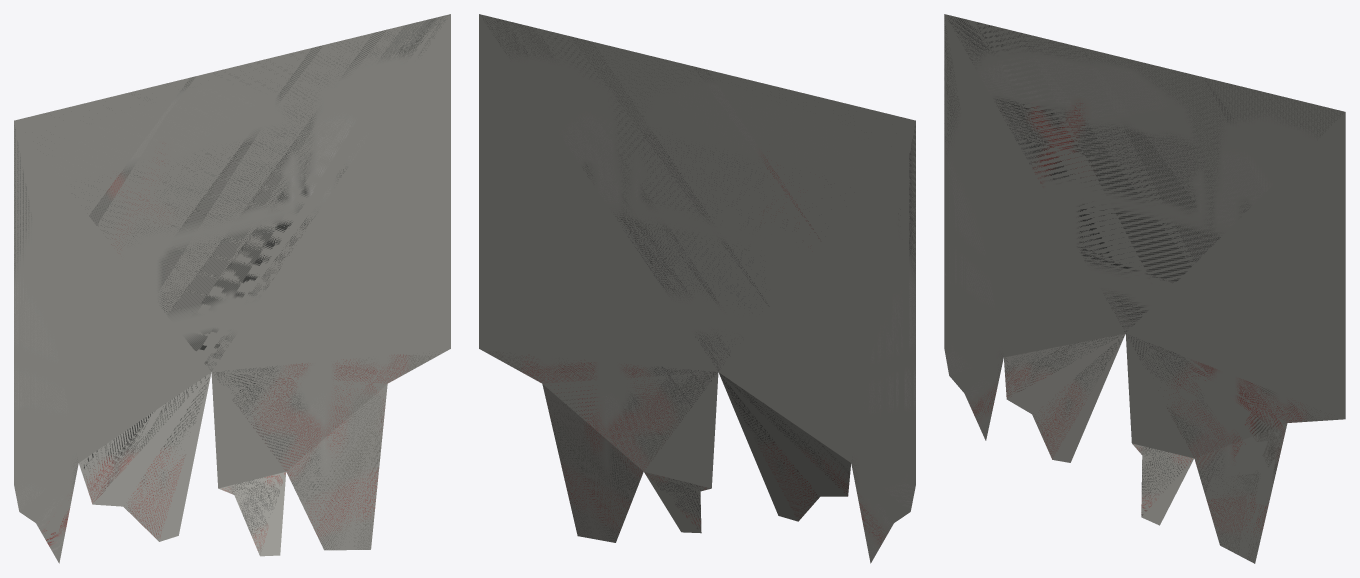
Rendered from SM_Prop_Sign_Poster_13.fbx.
3 renders of one model, left to right at view 1: azimuth 30°, elevation 25°; view 2: azimuth 150°, elevation 25°; view 3: azimuth 330°, elevation 25°, orthographic. The views are drawn at different scales.
Visible parts, largest first — view 1: SM_Prop_Sign_Poster_13; view 2: SM_Prop_Sign_Poster_13; view 3: SM_Prop_Sign_Poster_13.
Boxes of the visible parts, box(x1,y1,x2,y2) form: SM_Prop_Sign_Poster_13: box(14, 14, 450, 563); SM_Prop_Sign_Poster_13: box(479, 14, 915, 563); SM_Prop_Sign_Poster_13: box(944, 14, 1345, 563).
Size of the model in its own units: 41.46 by 46 by 2.6.
